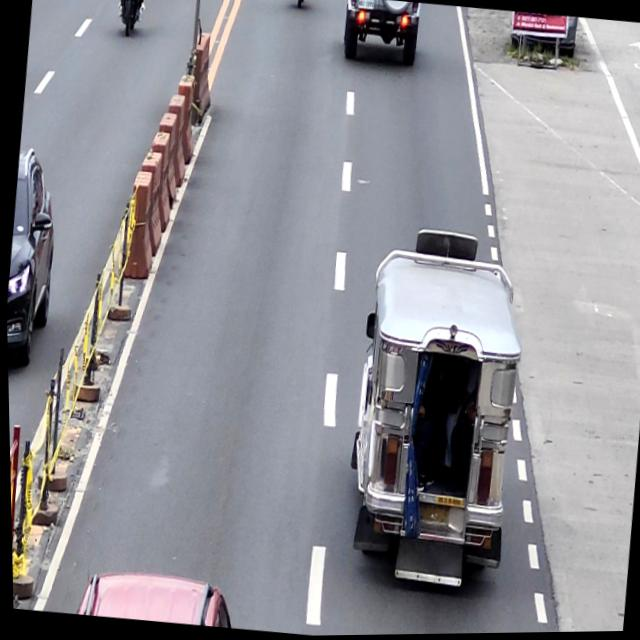Car: (66, 563, 233, 630), (340, 0, 423, 72)
Jeep: (333, 238, 531, 590)
License-Plate: (413, 502, 449, 525), (355, 0, 375, 12)
